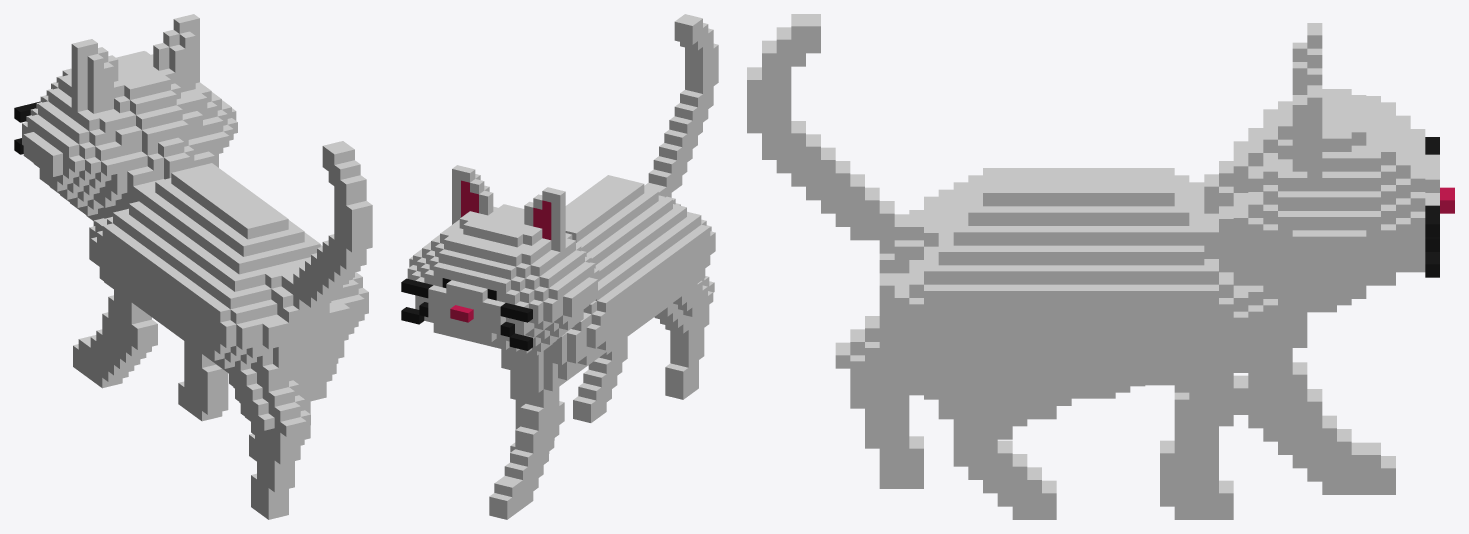
Rendered from white_kitty-0.glb.
3 views of the same model, side by side, from view 1: azimuth 30°, elevation 25°; view 2: azimuth 150°, elevation 25°; view 3: azimuth 270°, elevation 25° (orthographic). The views are drawn at different scales.
Visible parts, largest first — view 1: white_kitty-0; view 2: white_kitty-0; view 3: white_kitty-0.
Boxes of the visible parts, box(x1,y1,x2,y2) form: white_kitty-0: box(14, 14, 372, 519); white_kitty-0: box(401, 14, 718, 519); white_kitty-0: box(747, 14, 1454, 519).
Size of the model in its own units: 18 by 36 by 48.
1 material, 1 textured.
